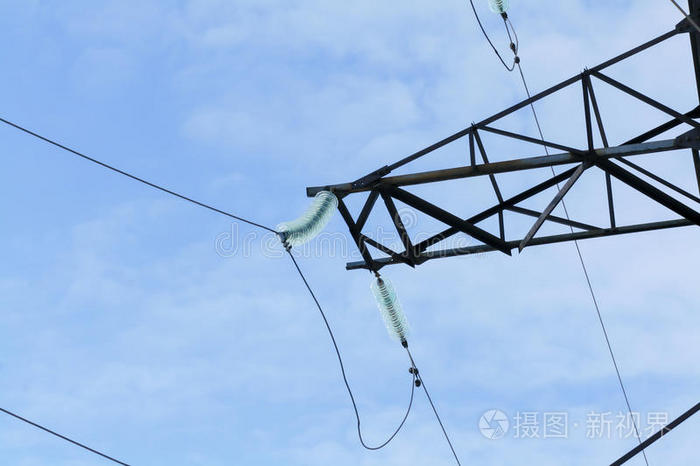insulator: (277, 190, 338, 248), (370, 276, 410, 341)
